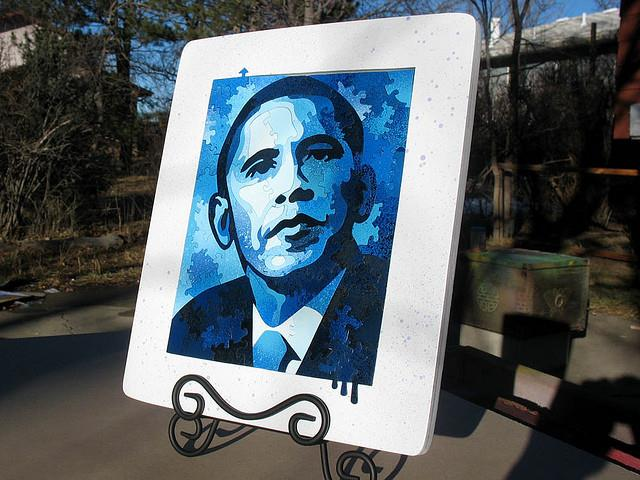Obama: (171, 69, 425, 394)
